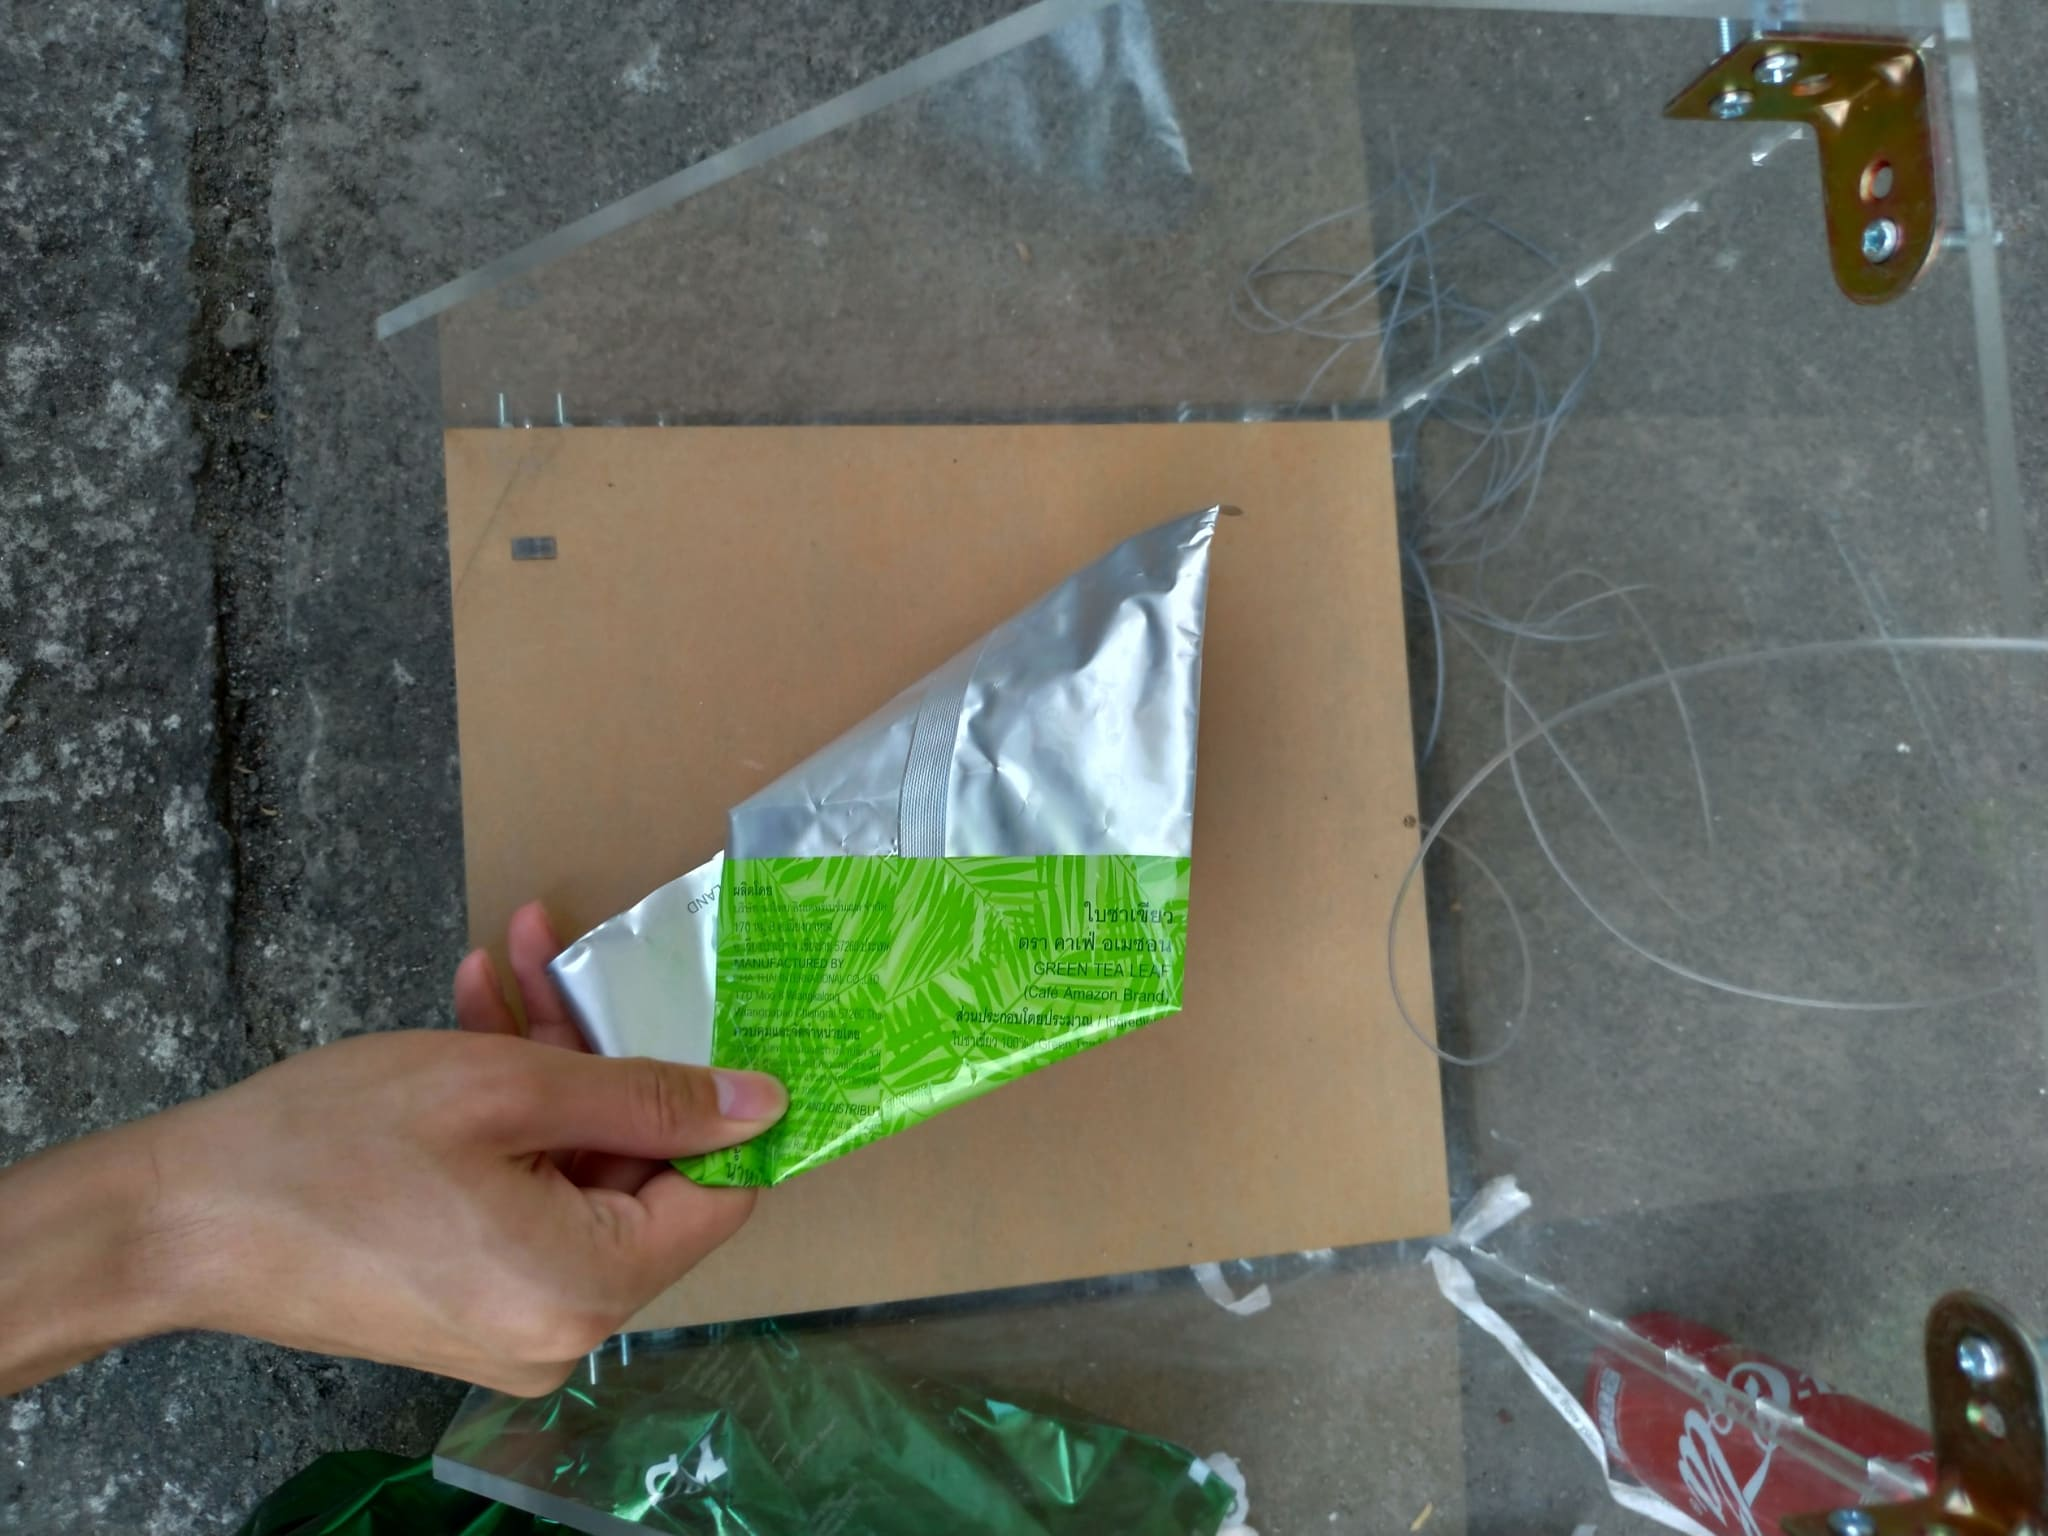AlCan: (1580, 1317, 2008, 1536)
Others: (540, 486, 1232, 1189), (240, 1338, 1256, 1536)
